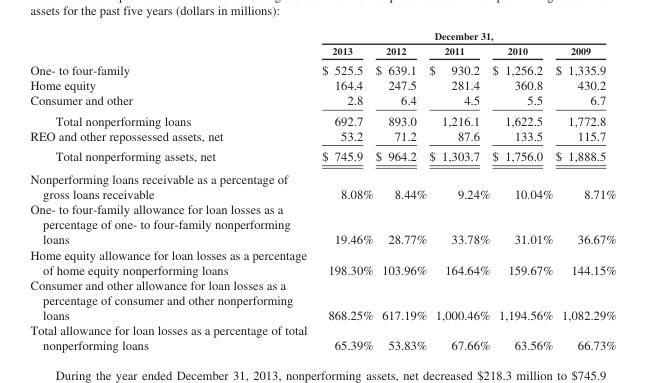table: (29, 29, 615, 352)
table column: (29, 29, 313, 352), (427, 29, 490, 352), (490, 29, 553, 352), (553, 29, 615, 352), (313, 29, 373, 352), (373, 29, 427, 352)
table column header: (29, 29, 615, 59)
table row: (29, 276, 615, 322), (29, 201, 615, 246), (29, 167, 615, 201), (29, 246, 615, 276), (29, 322, 615, 352), (29, 145, 615, 167), (29, 59, 615, 77), (29, 92, 615, 110), (29, 127, 615, 145), (29, 42, 615, 59), (29, 110, 615, 127), (29, 77, 615, 92), (29, 29, 615, 42)
table spanning cell: (313, 29, 615, 42)
